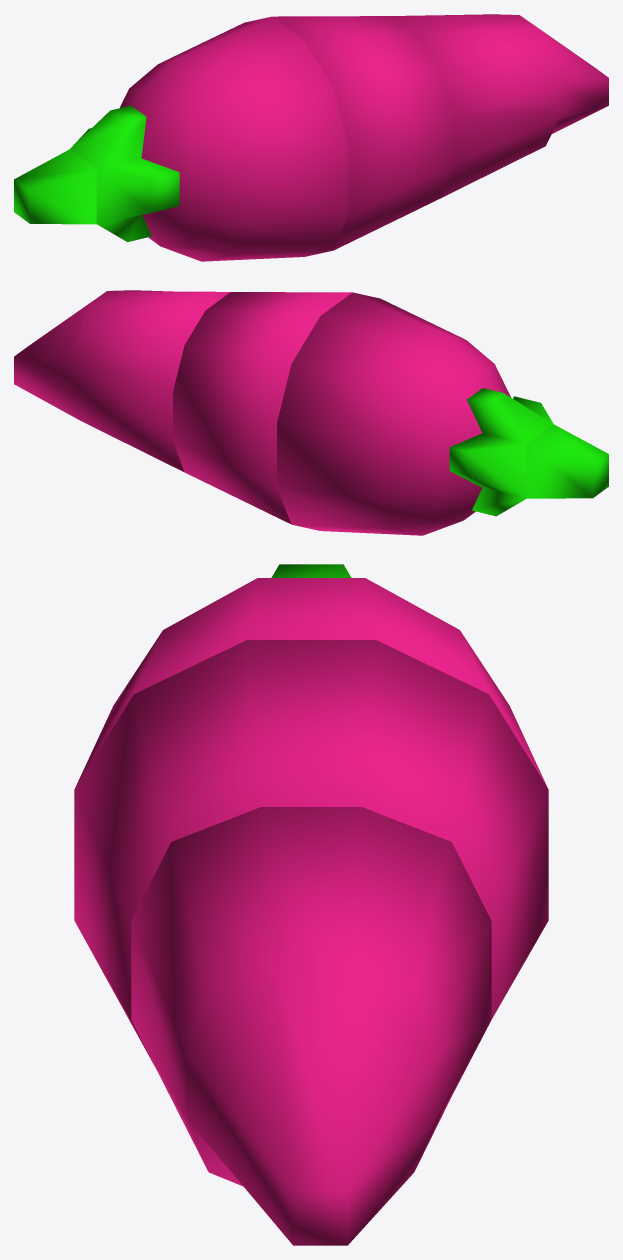
The model's file is terong.fbx.
3 views of the same model, one above another, from view 1: azimuth 30°, elevation 25°; view 2: azimuth 150°, elevation 25°; view 3: azimuth 270°, elevation 25° (orthographic). The views are drawn at different scales.
Parts seen in each view (by area): view 1: Cube, Cube.003, Cube.002, Cube.001; view 2: Cube, Cube.003, Cube.002, Cube.001; view 3: Cube.002, Cube.003, Cube, Cube.001.
Part boxes in pixels (x1=…): Cube: x1=120, y1=16, x2=348, y2=261; Cube.003: x1=273, y1=16, x2=453, y2=250; Cube.002: x1=395, y1=14, x2=608, y2=197; Cube.001: x1=14, y1=105, x2=179, y2=242; Cube: x1=277, y1=292, x2=510, y2=535; Cube.003: x1=173, y1=292, x2=352, y2=524; Cube.002: x1=14, y1=290, x2=230, y2=471; Cube.001: x1=449, y1=388, x2=608, y2=516; Cube.002: x1=131, y1=807, x2=491, y2=1245; Cube.003: x1=74, y1=640, x2=548, y2=1065; Cube: x1=75, y1=578, x2=547, y2=787; Cube.001: x1=271, y1=564, x2=351, y2=577.
Size of the model in its own units: 900 by 320 by 320.
